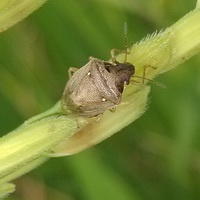insect: (61, 24, 156, 117)
